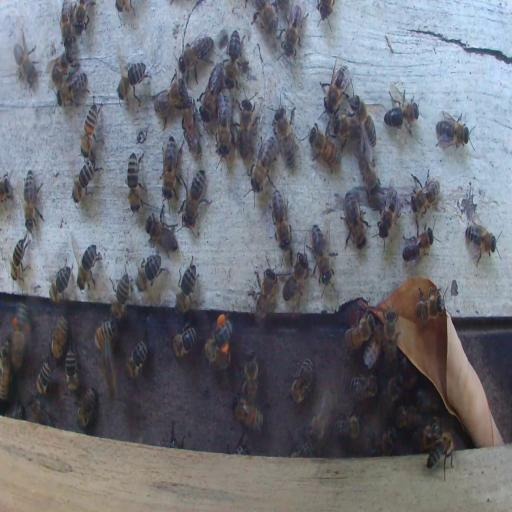bee: (384, 84, 422, 133), (273, 95, 297, 170), (248, 268, 278, 327), (434, 109, 475, 151), (153, 73, 184, 128), (310, 223, 337, 285), (320, 59, 350, 114), (180, 171, 210, 226), (180, 34, 213, 84), (341, 192, 369, 249), (308, 124, 341, 171), (464, 222, 500, 264), (12, 29, 38, 87), (410, 169, 440, 218), (280, 5, 304, 65), (208, 312, 232, 372), (175, 258, 200, 315), (71, 156, 100, 205), (116, 59, 149, 102), (250, 137, 276, 191), (11, 298, 31, 368), (145, 214, 178, 256), (22, 170, 43, 232), (75, 241, 100, 293), (351, 96, 376, 148), (80, 99, 102, 158), (427, 432, 455, 478), (284, 252, 308, 304), (402, 228, 435, 265), (289, 356, 314, 404), (56, 68, 87, 106), (377, 185, 398, 240), (110, 271, 131, 325), (272, 189, 291, 248), (48, 260, 72, 305), (345, 314, 374, 350), (232, 398, 263, 430), (126, 150, 142, 211), (348, 372, 380, 402), (182, 107, 202, 155), (136, 253, 164, 287), (162, 136, 176, 202), (76, 386, 97, 430), (127, 337, 148, 381), (240, 354, 259, 400), (333, 411, 362, 441), (171, 326, 197, 359), (415, 294, 443, 324), (10, 238, 29, 282), (50, 316, 68, 362), (363, 328, 383, 369), (93, 320, 115, 356), (420, 416, 443, 450), (53, 52, 76, 85), (372, 426, 397, 456), (253, 1, 277, 32), (395, 404, 422, 431), (384, 311, 398, 361), (65, 346, 79, 394), (0, 338, 10, 404), (29, 398, 53, 425), (36, 356, 52, 394), (162, 423, 186, 448), (386, 373, 404, 405), (59, 3, 72, 47), (200, 88, 218, 118), (292, 439, 314, 457), (1, 173, 12, 201), (232, 437, 248, 455), (11, 402, 25, 419)
